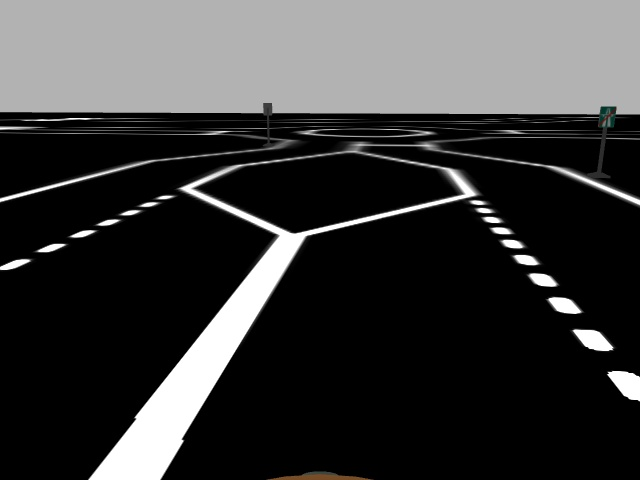leave_highway: (596, 105, 619, 129)
